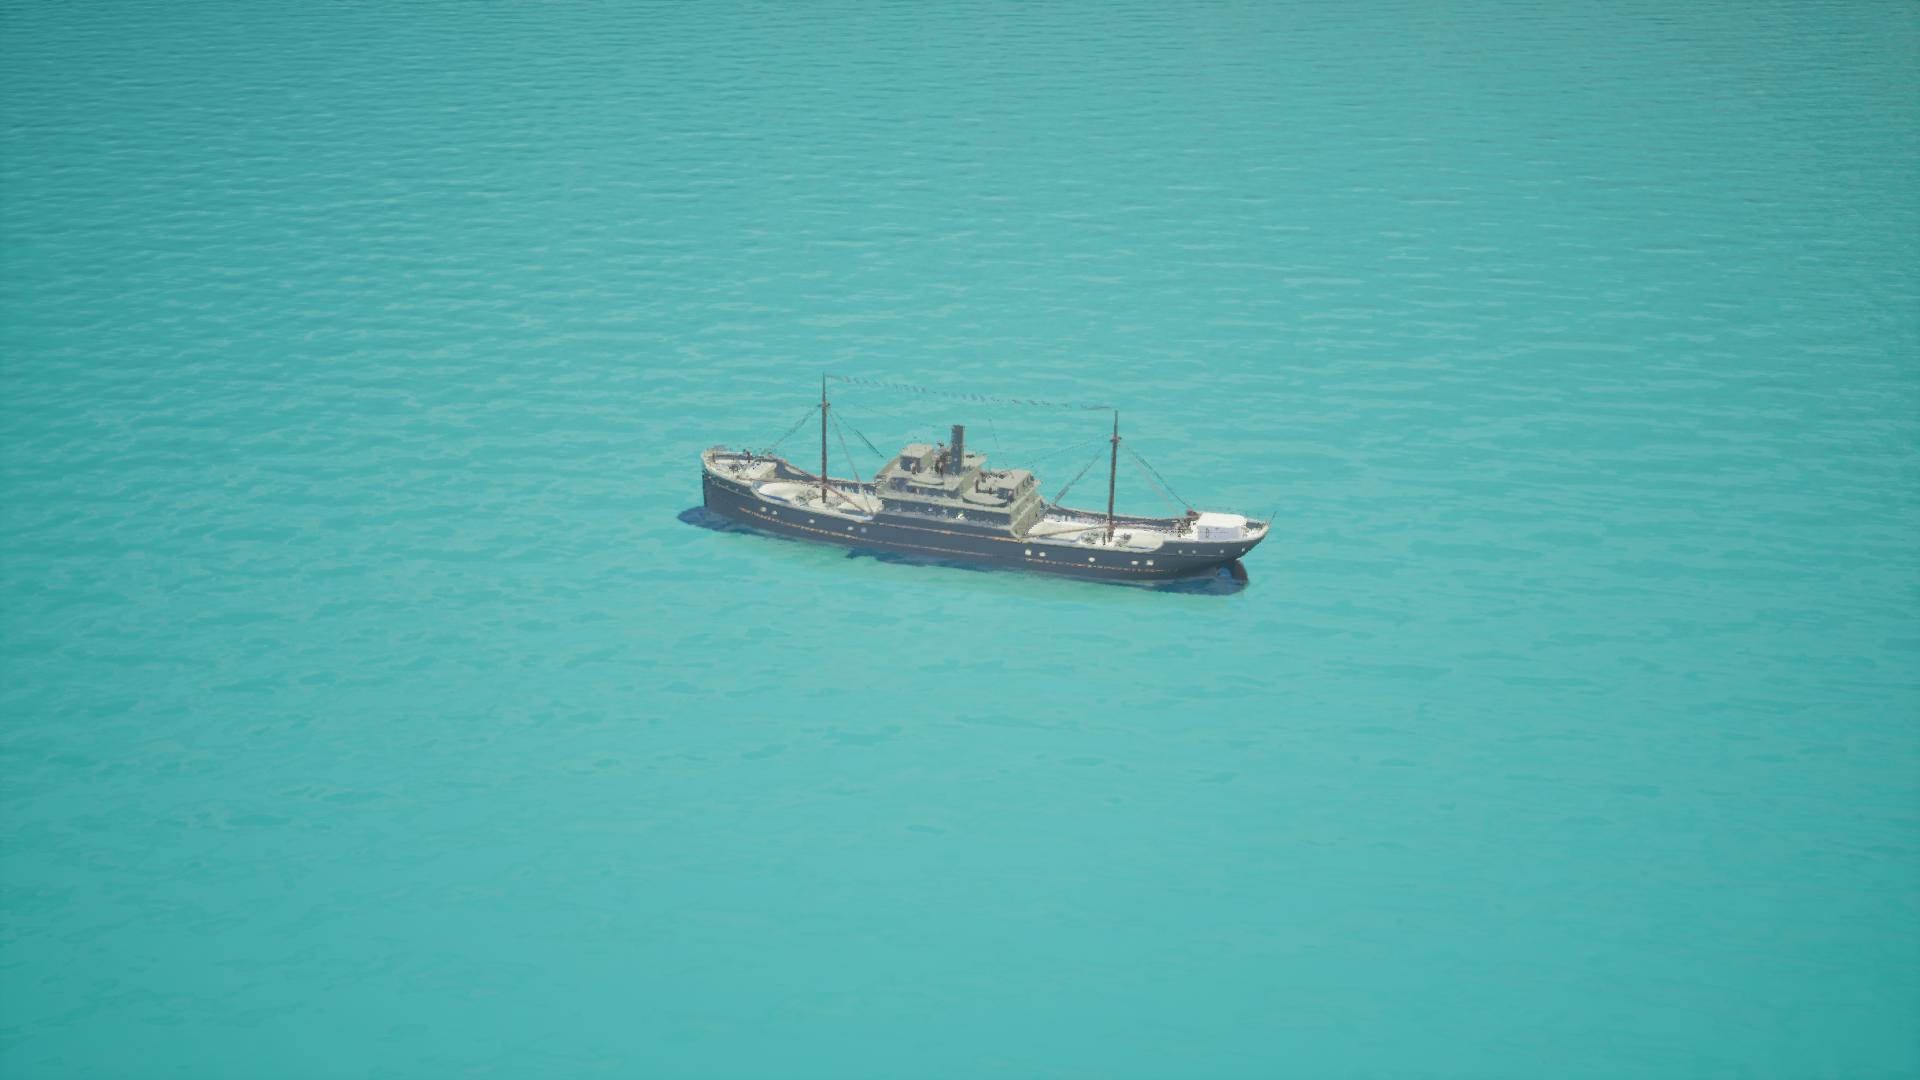Fishing Boat: (691, 389, 1267, 591)
